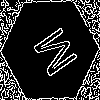M: (25, 25, 79, 85)
